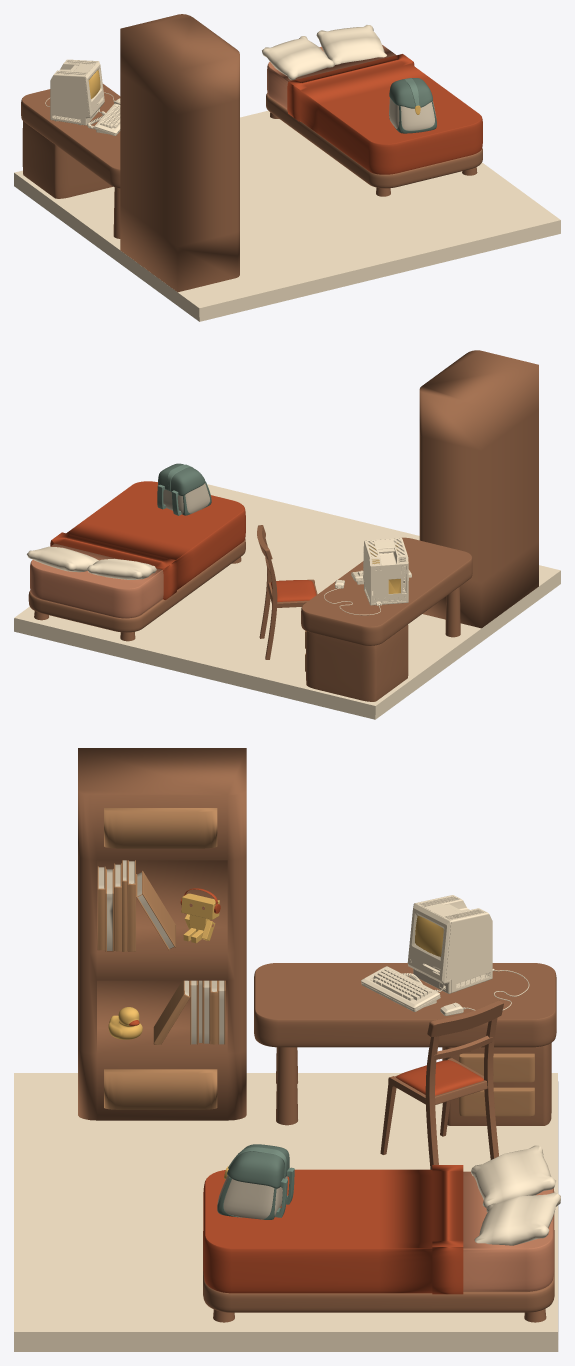
Rendered from Cuarto-prueba.fbx.
The picture shows the model from 3 angles, top to bottom: view 1: azimuth 30°, elevation 25°; view 2: azimuth 150°, elevation 25°; view 3: azimuth 270°, elevation 25°; orthographic projection. The views are drawn at different scales.
Visible parts, largest first — view 1: Pared, Armario, Colchon, Tabla, pc, Patas cama, Maleta, Almohada.001, Almohada; view 2: Pared, Armario, Colchon, Tabla, Patas cama, pc, Maleta, Chair, Almohada.001, Almohada; view 3: Pared, Armario, Colchon, Tabla, pc, Patas cama, Chair, Books, Maleta, Books2, Almohada, Almohada.001 (+2 smaller).
Part boxes in pixels (<box>): Pared: <box>14,110,560,321</box>; Armario: <box>120,14,239,292</box>; Colchon: <box>267,45,482,174</box>; Tabla: <box>21,84,120,238</box>; pc: <box>45,59,120,135</box>; Patas cama: <box>266,93,482,196</box>; Maleta: <box>389,78,436,133</box>; Almohada.001: <box>316,25,386,64</box>; Almohada: <box>262,36,334,79</box>; Pared: <box>14,484,560,719</box>; Armario: <box>419,350,538,628</box>; Colchon: <box>30,481,245,618</box>; Tabla: <box>301,537,472,701</box>; Patas cama: <box>28,539,245,641</box>; pc: <box>324,538,411,615</box>; Maleta: <box>157,463,211,515</box>; Chair: <box>257,525,317,659</box>; Almohada.001: <box>27,546,99,572</box>; Almohada: <box>87,558,156,579</box>; Pared: <box>14,1073,558,1351</box>; Armario: <box>78,748,246,1120</box>; Colchon: <box>203,1165,554,1294</box>; Tabla: <box>254,963,556,1125</box>; pc: <box>361,895,529,1015</box>; Patas cama: <box>203,1230,554,1322</box>; Chair: <box>380,1000,503,1169</box>; Books: <box>97,860,175,951</box>; Maleta: <box>217,1144,294,1219</box>; Books2: <box>153,980,225,1044</box>; Almohada: <box>471,1145,555,1207</box>; Almohada.001: <box>474,1192,560,1245</box>.
Size of the model in its own units: 741 by 461 by 661.
